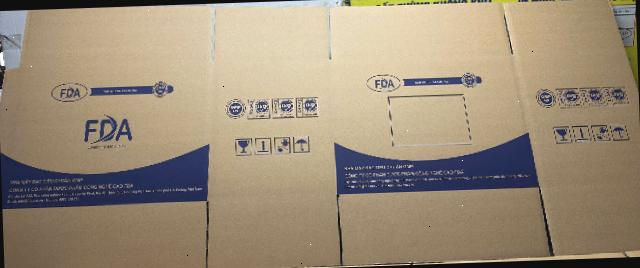box: (0, 1, 640, 268)
